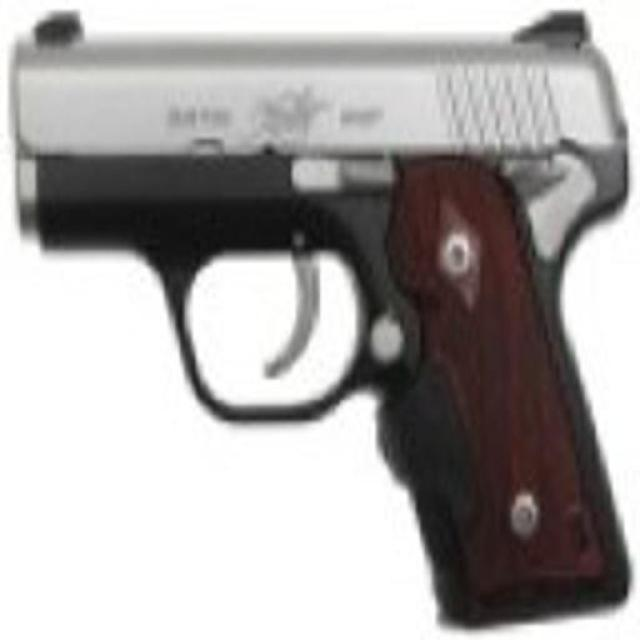pistol: (11, 15, 631, 629)
